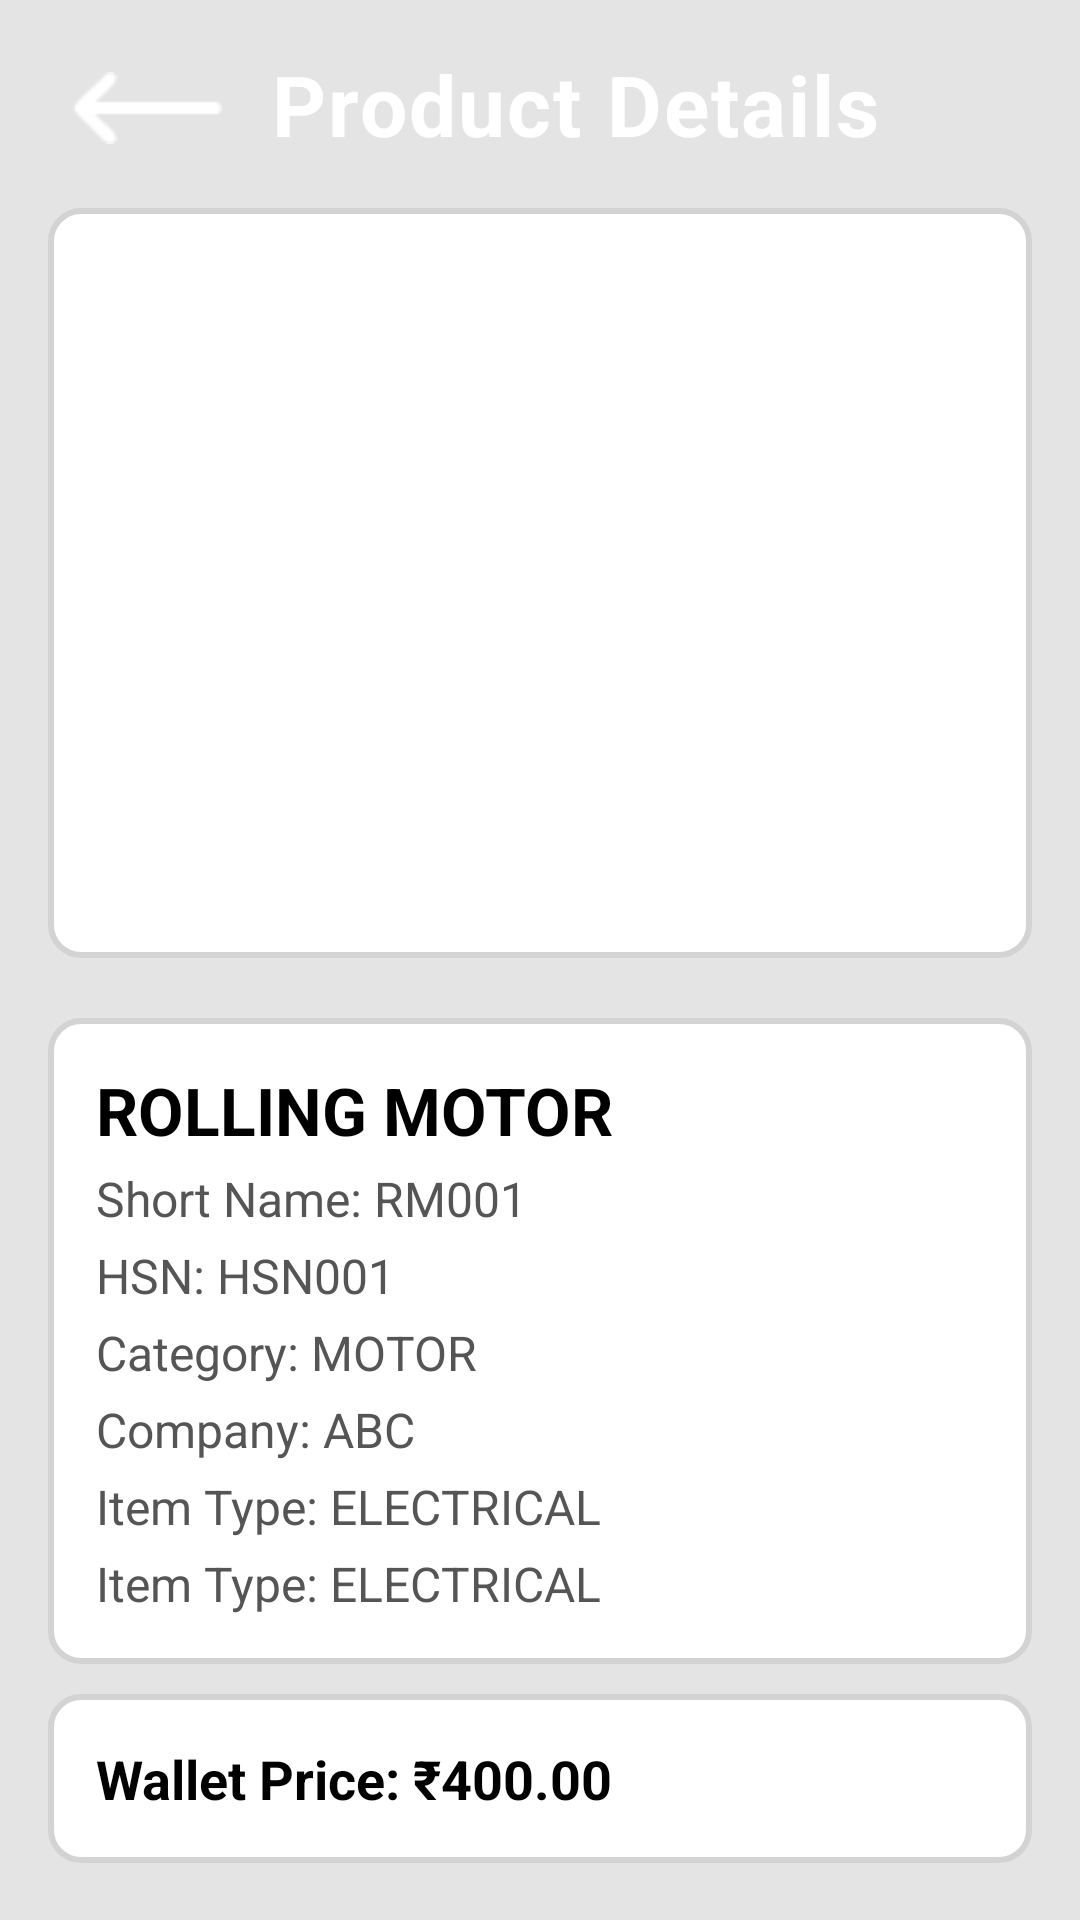

Screen size 1080×1920. Icon name, then its center in pixels as point (x, y):
arrow cal: point (147, 108)
